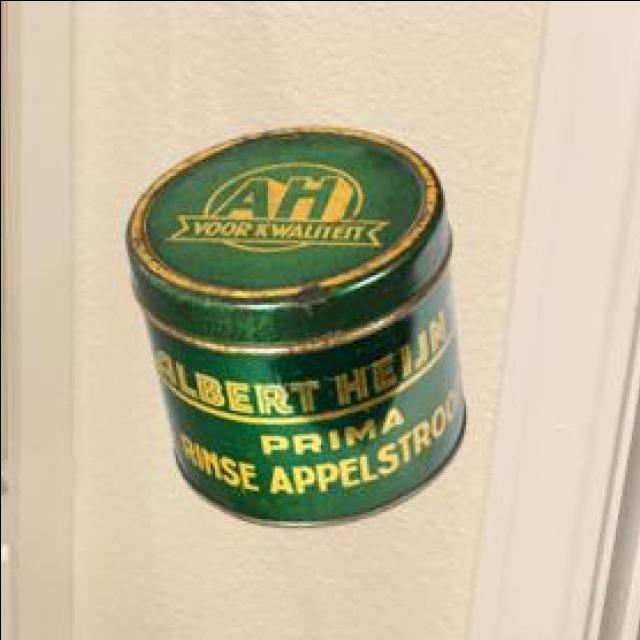logam: (121, 123, 462, 524)
